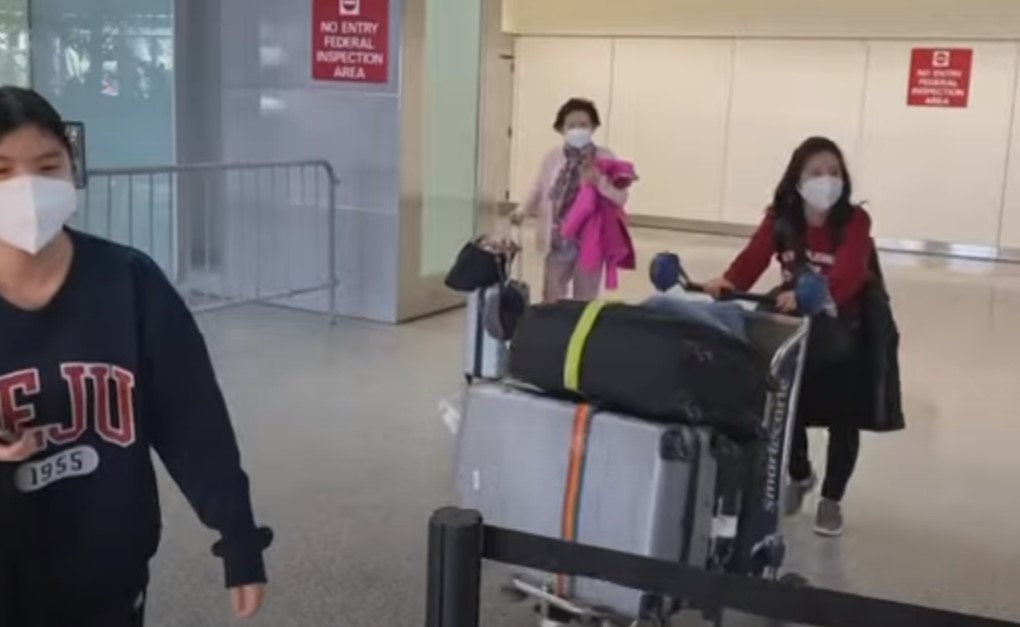face_with_mask: (2, 86, 80, 257), (782, 135, 850, 217), (554, 95, 599, 155)
